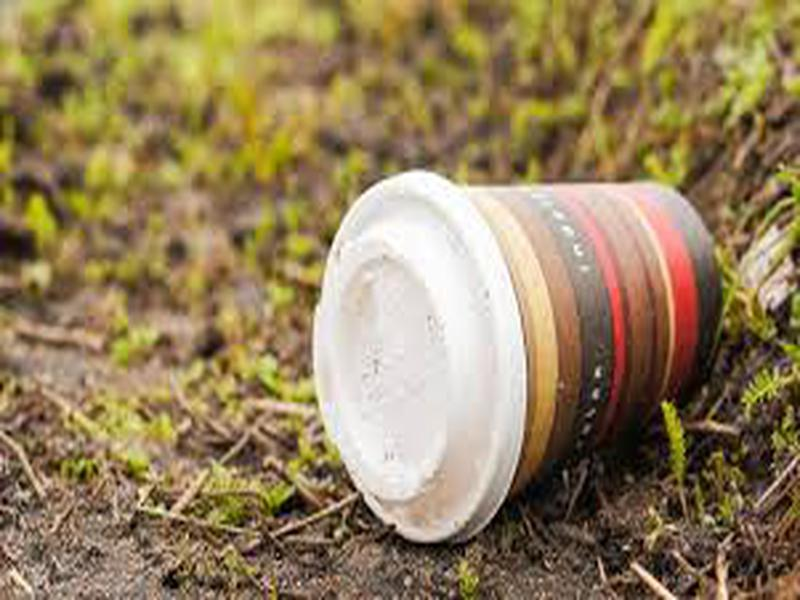cup: (312, 169, 729, 547)
